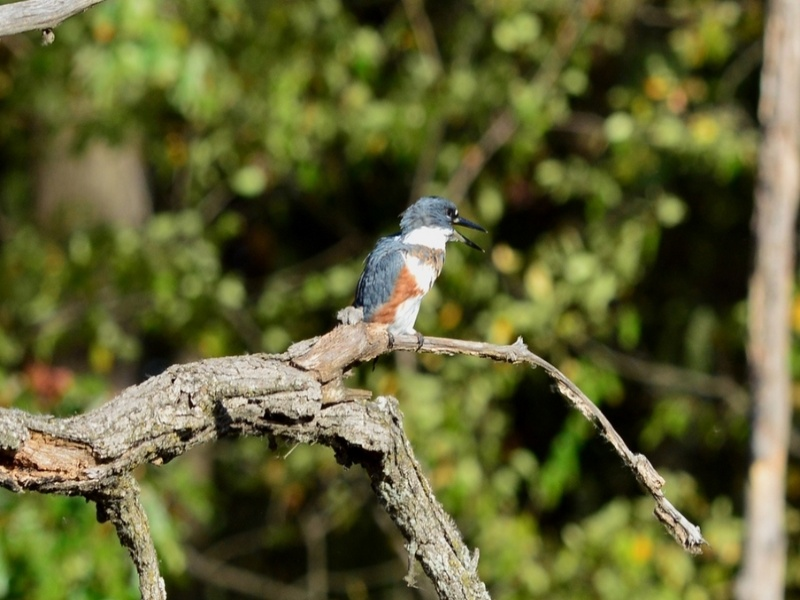kingfisher: (345, 194, 490, 339)
